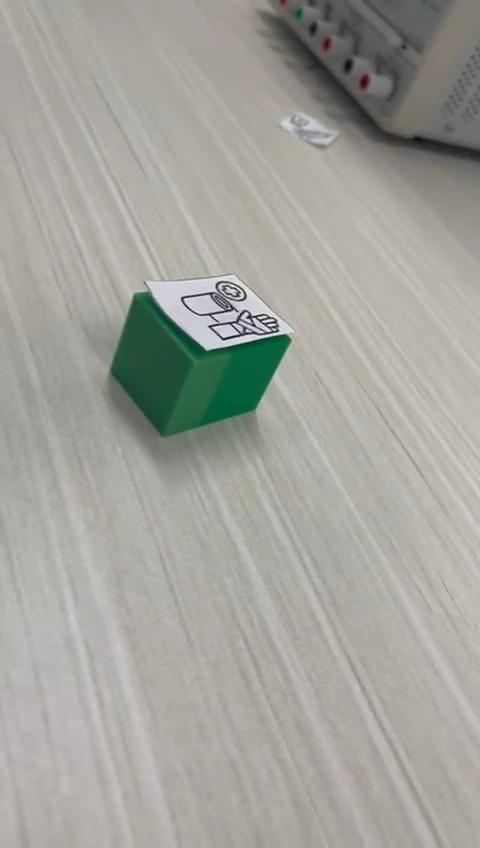Bandages: (111, 274, 294, 438)
